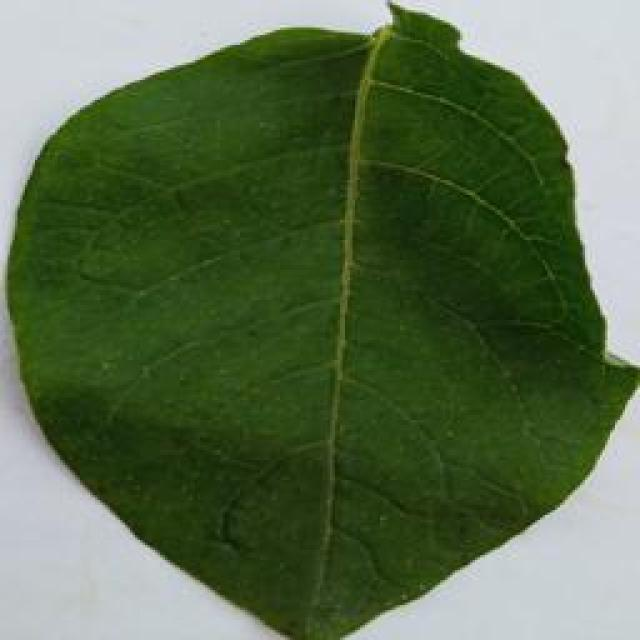Potato_Healthy: (3, 4, 627, 626)
